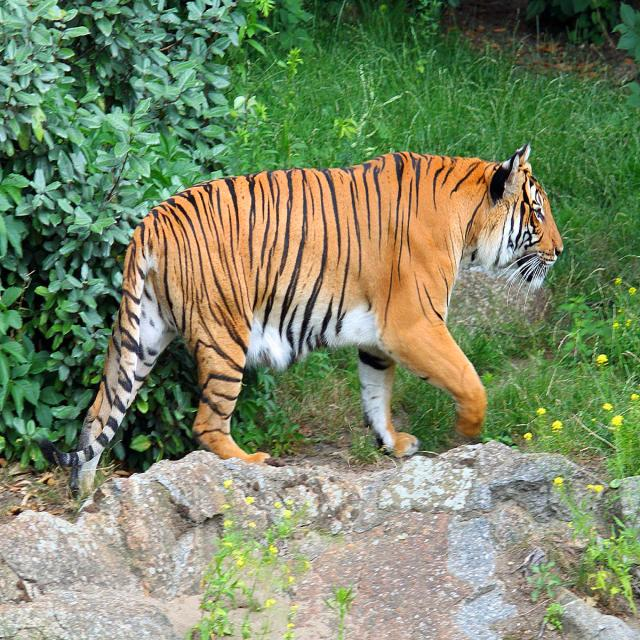tiger: (42, 144, 563, 489)
